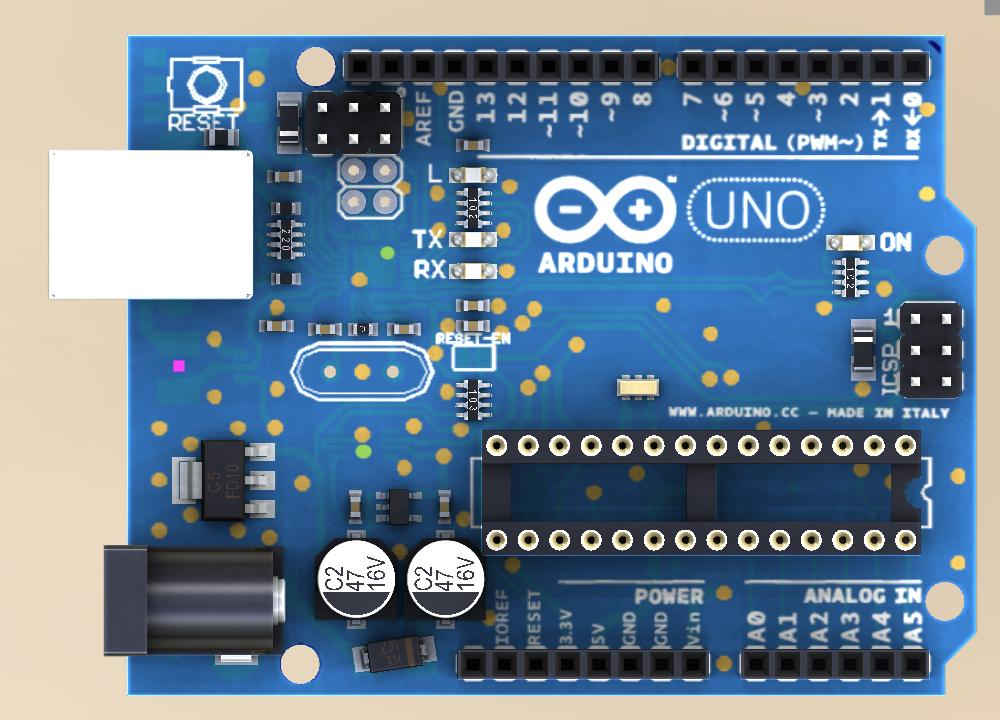16MHz Crystal: (614, 371, 664, 404)
47uF CAP: (311, 528, 401, 632), (401, 528, 488, 632)
CD1206: (849, 319, 879, 382), (277, 90, 300, 157)
Capa: (265, 166, 304, 187), (386, 320, 424, 338), (346, 490, 364, 526), (435, 488, 453, 522), (257, 318, 294, 334), (454, 297, 491, 313), (458, 137, 492, 154), (308, 321, 344, 337), (455, 318, 492, 333)
LED: (446, 166, 498, 186), (447, 230, 498, 249), (826, 234, 876, 251), (449, 263, 497, 280)
LMV358: (374, 488, 425, 530)
M7 diode: (349, 634, 439, 675)
PIN Header: (306, 90, 403, 155), (903, 303, 962, 399)
Ports: (343, 47, 660, 86), (454, 644, 712, 685), (678, 48, 931, 88), (738, 643, 933, 685)
Power: (102, 546, 285, 667)
Regulator: (147, 418, 292, 544)
Resistor: (207, 128, 241, 146), (271, 270, 303, 288), (271, 202, 304, 217), (350, 321, 378, 338)
Resistor pack: (453, 376, 492, 426), (267, 218, 308, 264), (452, 186, 493, 230), (830, 256, 869, 301)
USB: (48, 148, 255, 301)
